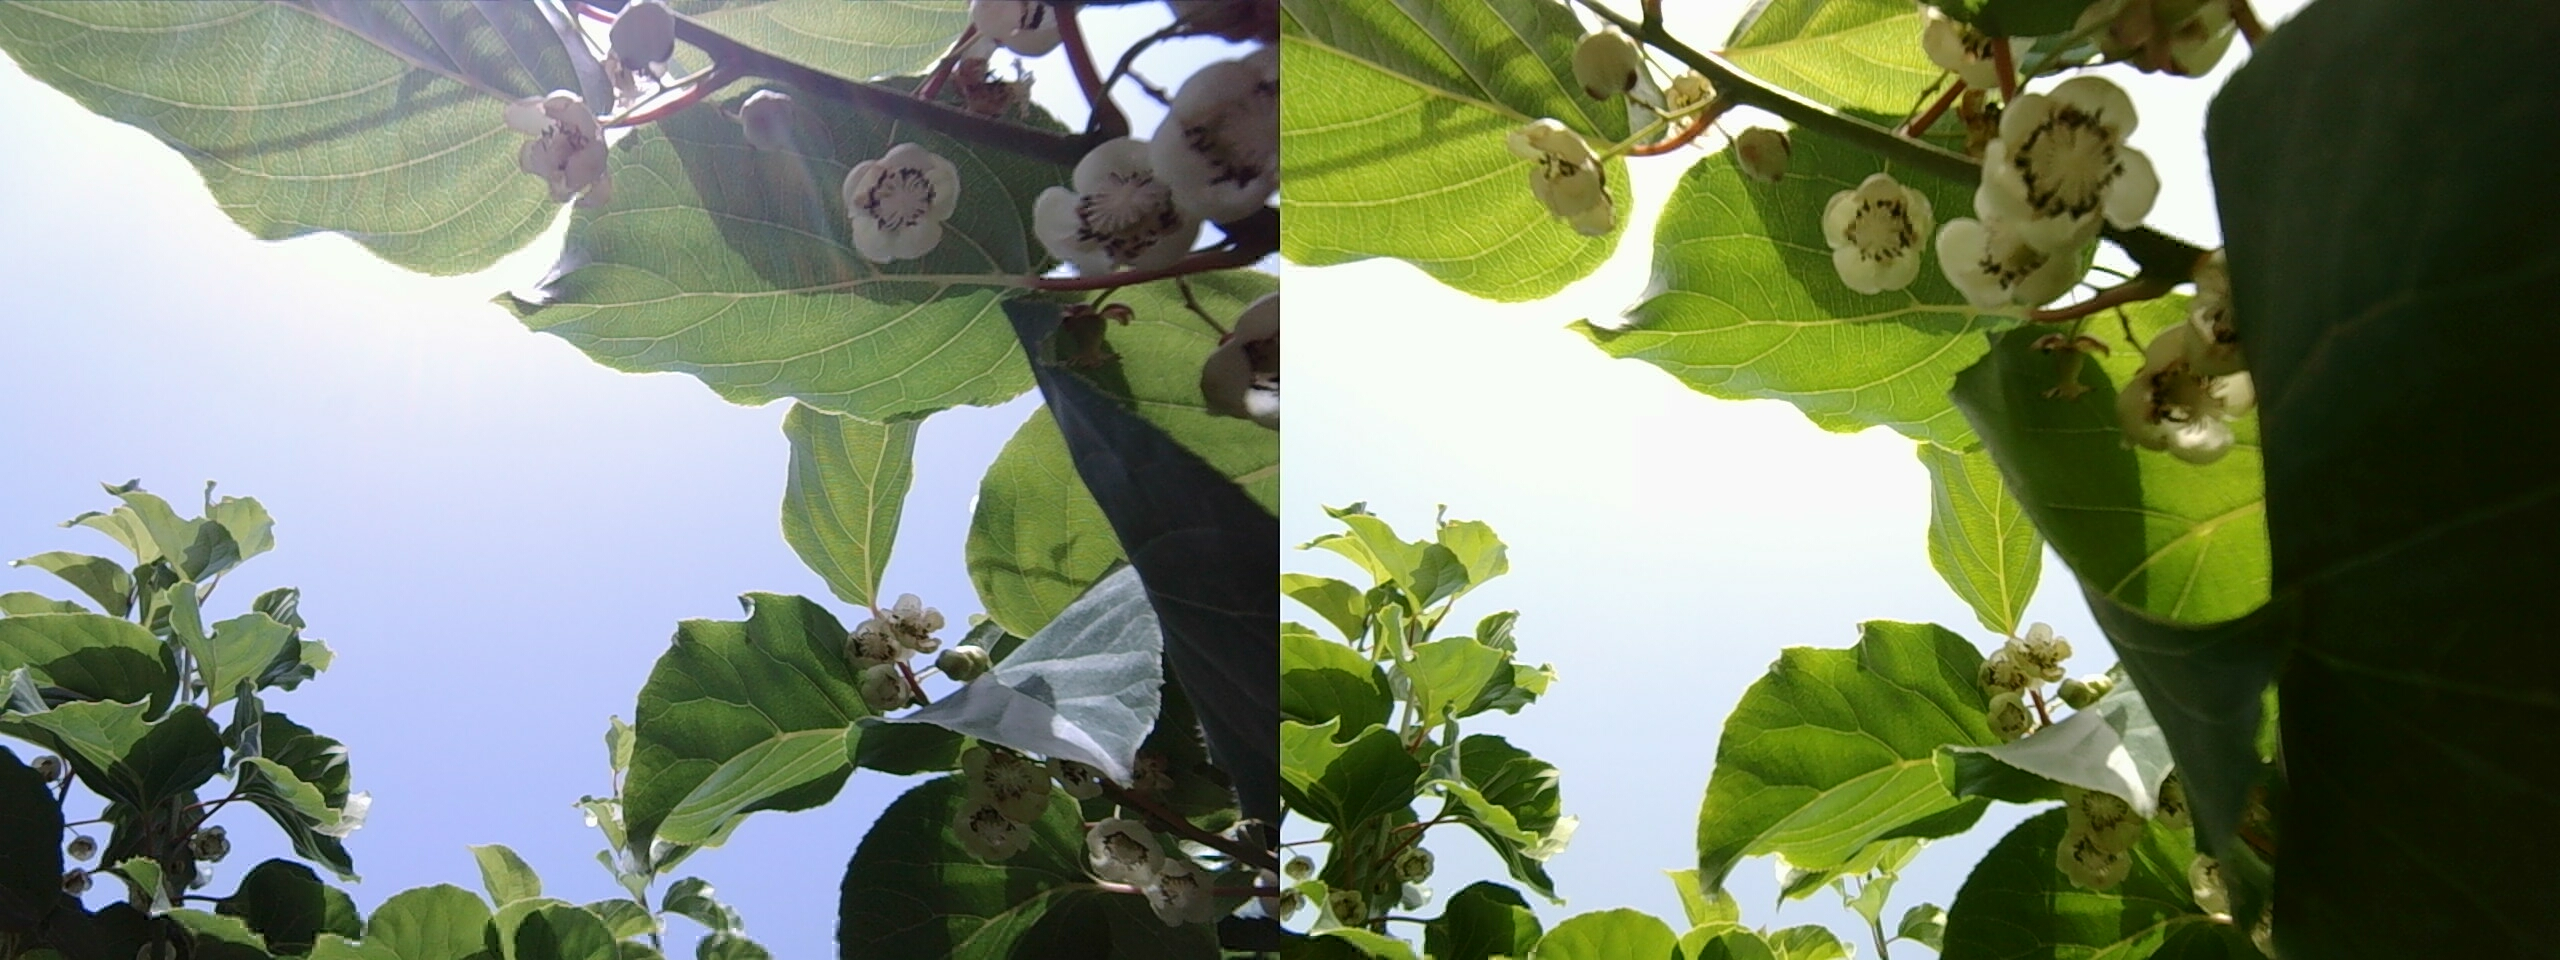flower: (1931, 72, 2158, 299), (1029, 122, 1221, 274), (1130, 52, 1265, 230), (1816, 168, 1940, 286), (834, 144, 962, 255)
